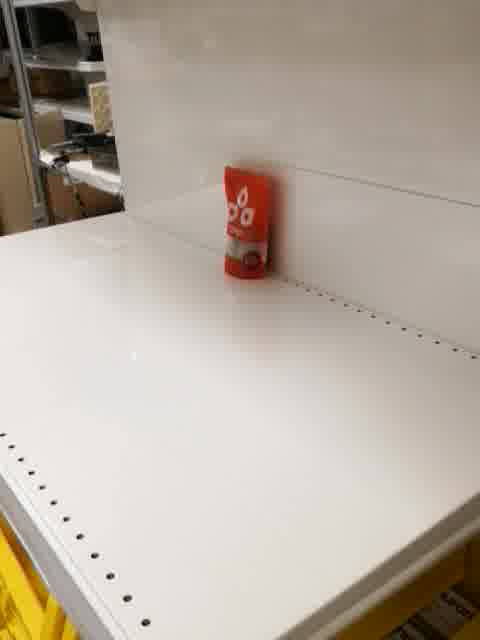whitechia: (220, 165, 280, 282)
